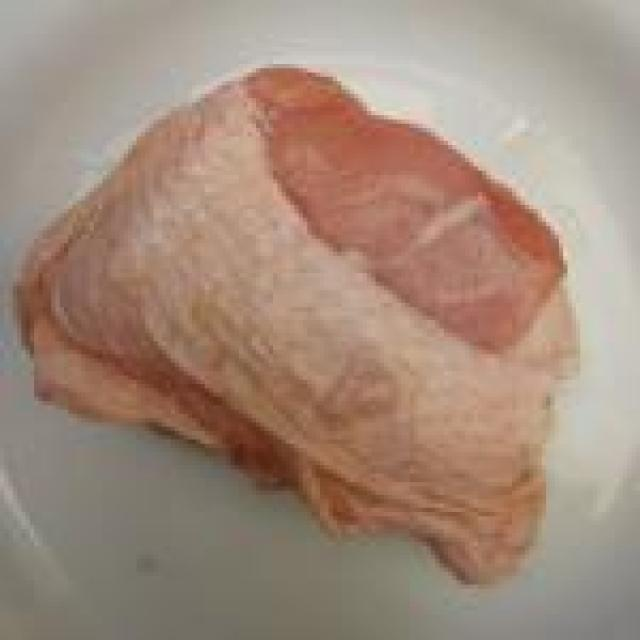breast: (32, 64, 582, 590)
